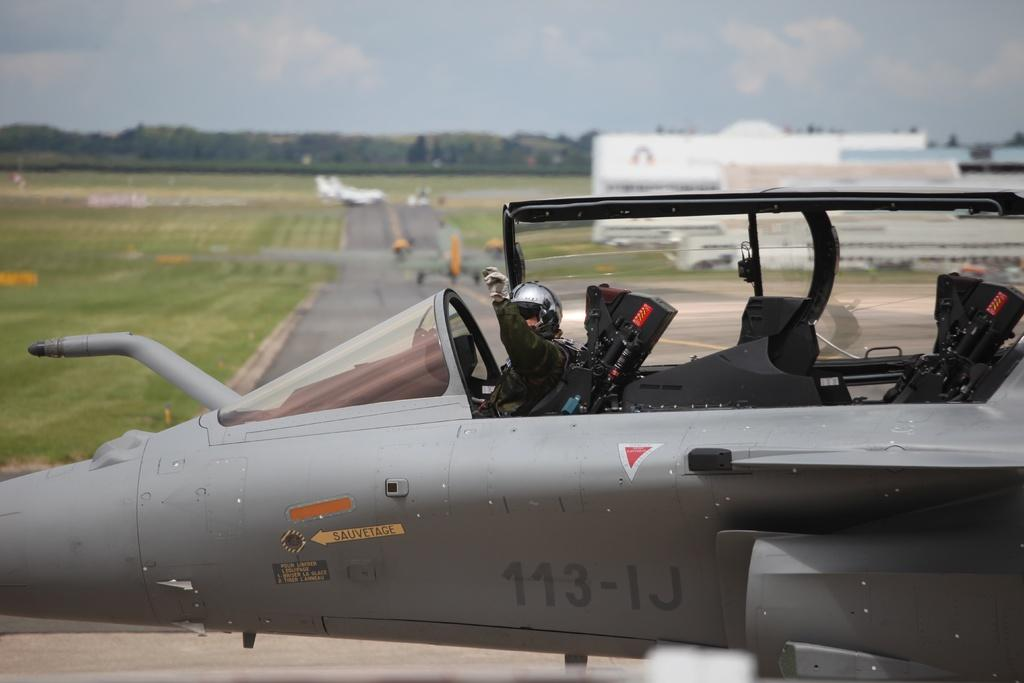helmet: (499, 282, 563, 340)
